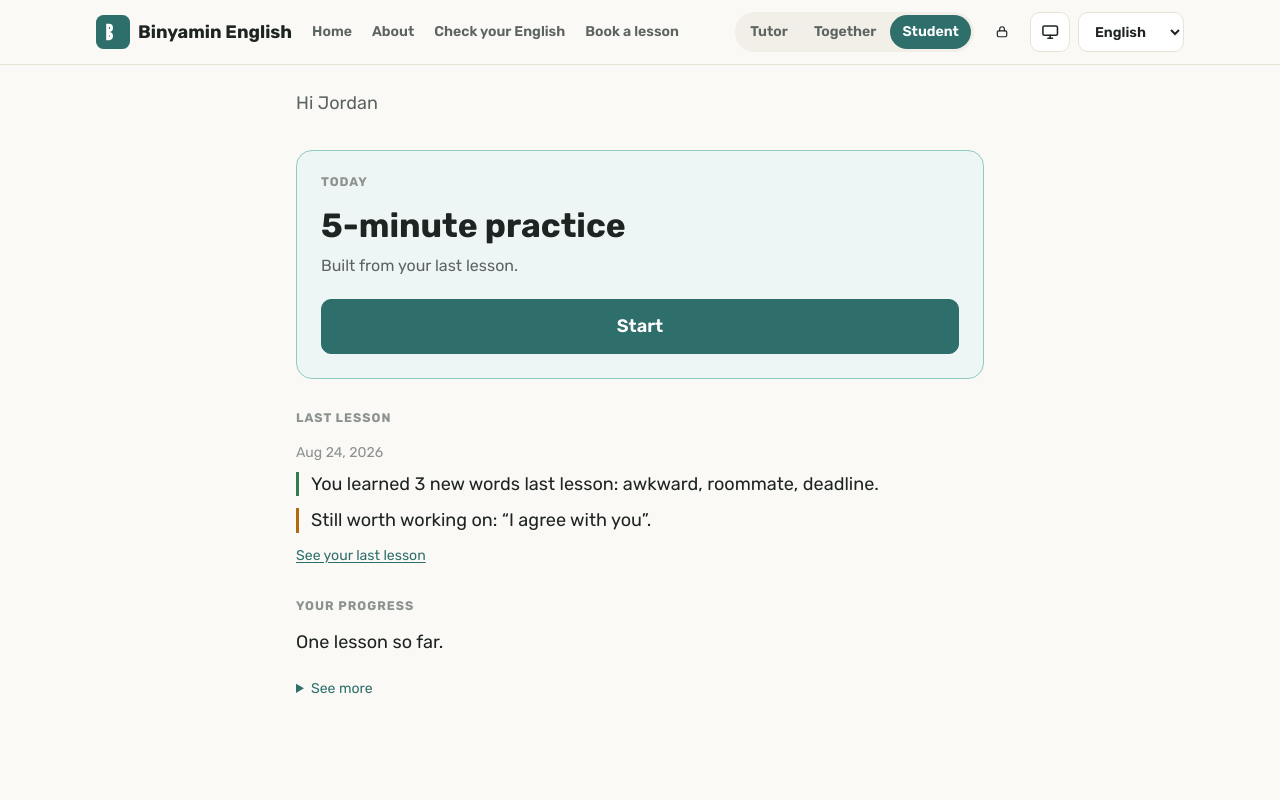
Test: leaving student mode costs the access phrase › a wrong phrase changes nothing
Expected: the text "Hi Jordan" is shown, 296,92 -> 378,114
Click the radio button labelled "Tutor" at point(769, 32), box 738,15 -> 800,49
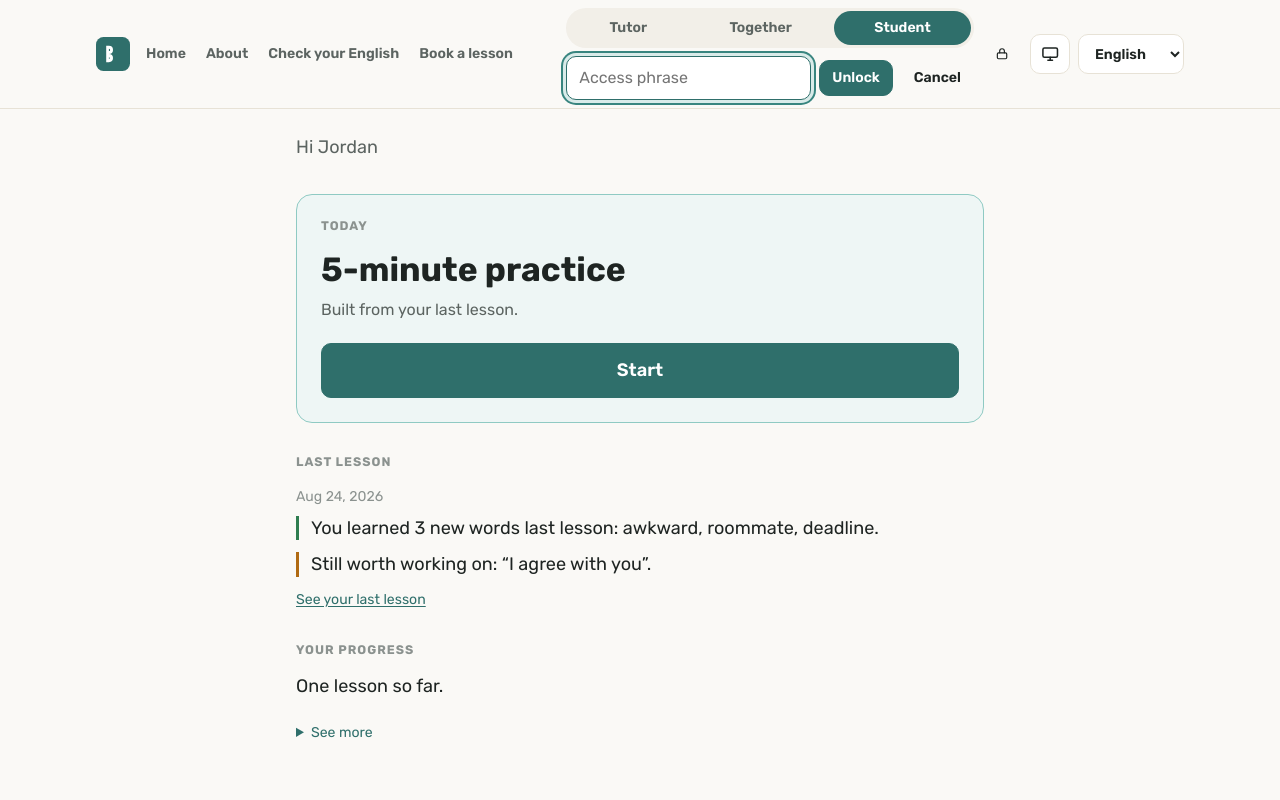
Type "guess" into the password field named "access phrase to leave student mode" at point(689, 78), box 566,56 -> 811,100
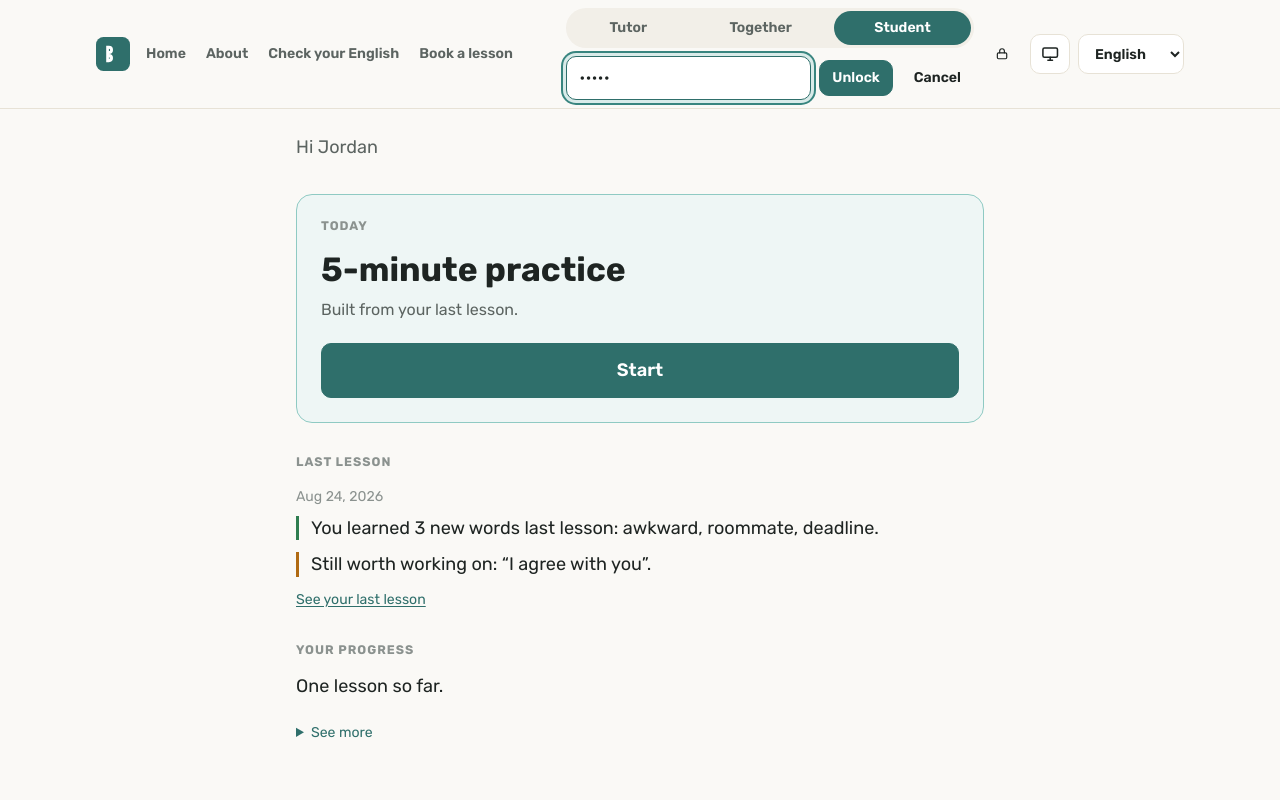
Click the button "Unlock" at point(856, 78), box 819,60 -> 893,96
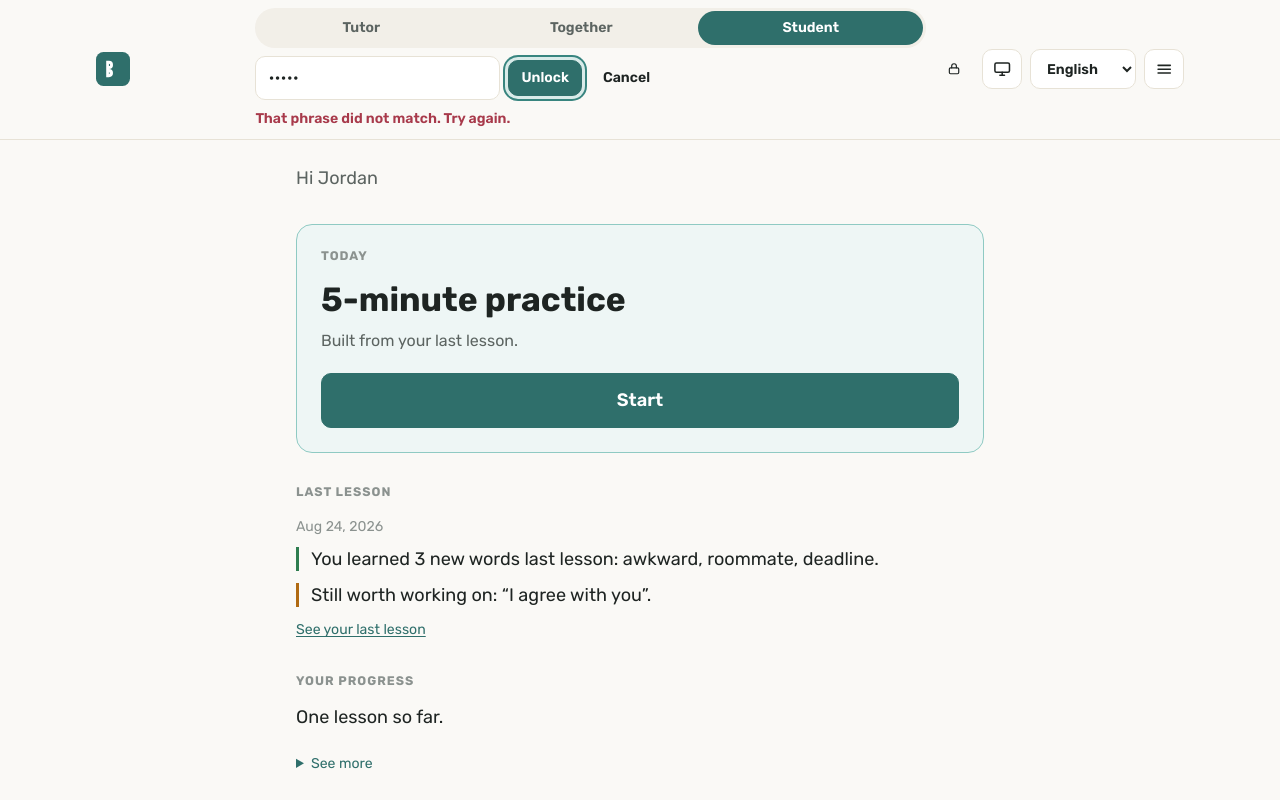
Now the message "That phrase did not match. Try again." is shown, box 255,110 -> 510,127
